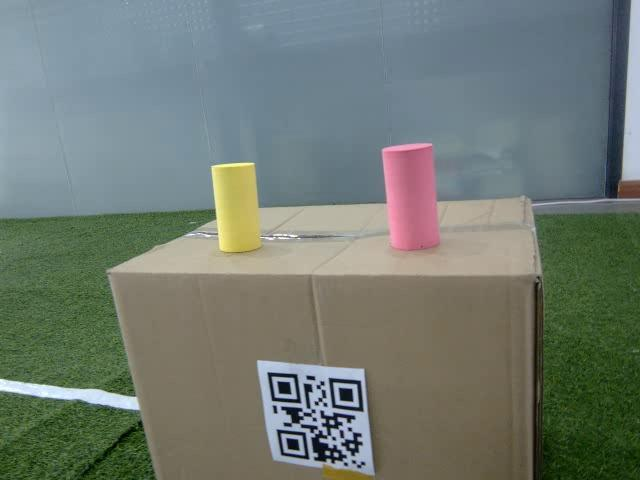red_cylinder: (382, 142, 440, 250)
yellow_cylinder: (210, 162, 262, 253)
